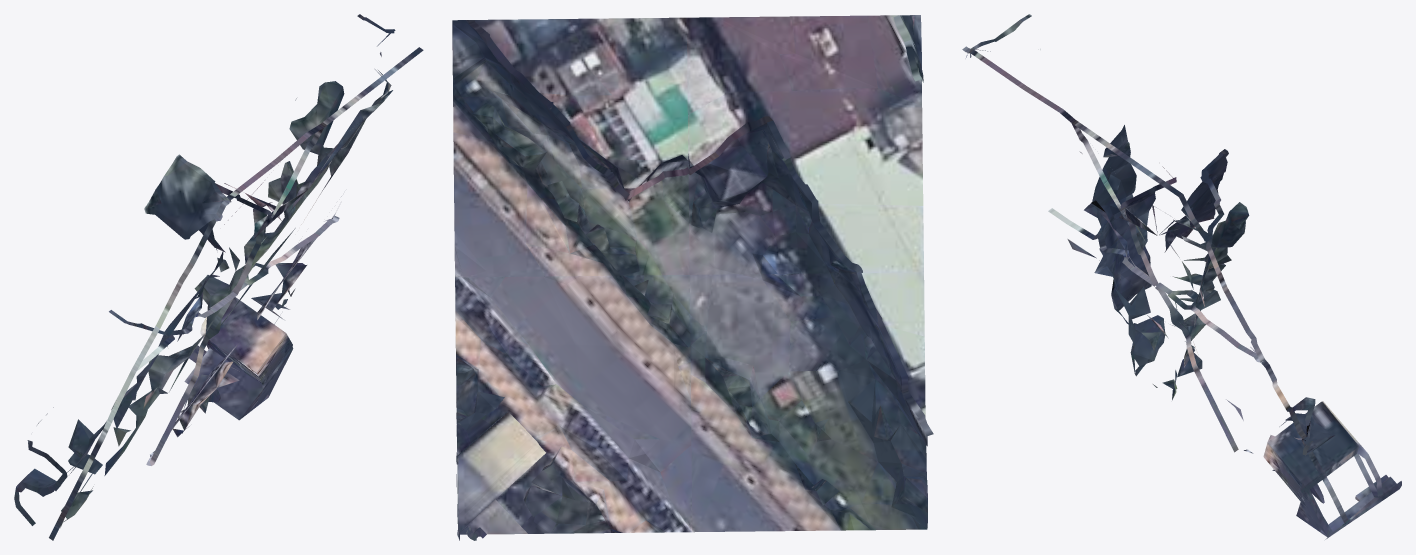
3 renders of one model, left to right at view 1: azimuth 30°, elevation 25°; view 2: azimuth 150°, elevation 25°; view 3: azimuth 270°, elevation 25°, orthographic. The views are drawn at different scales.
Size of the model in its own units: 39.97 by 37.88 by 36.96.
Materials: 2 (2 with a texture image).
